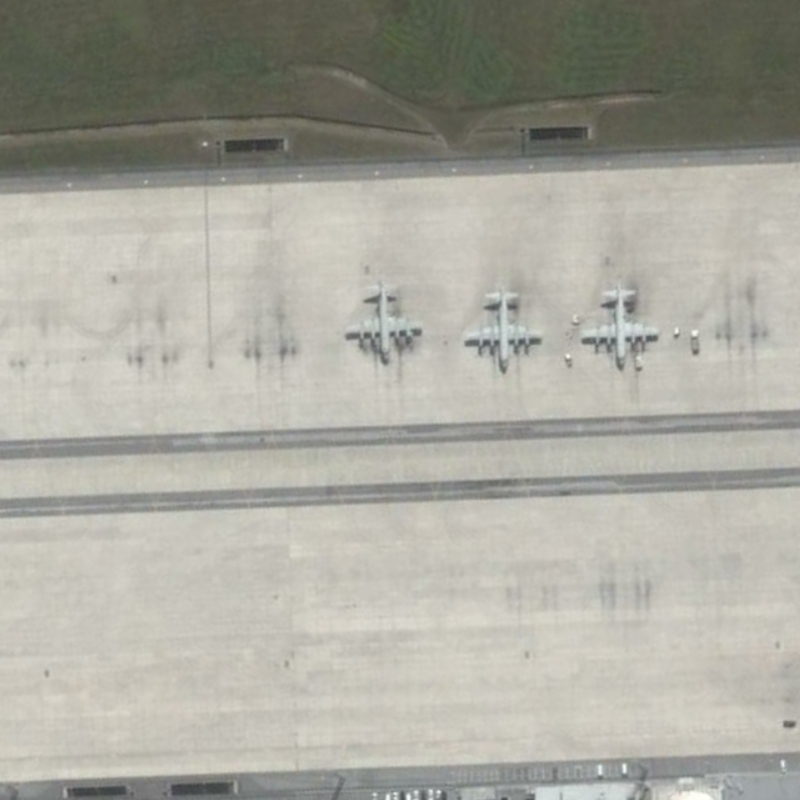A9: (456, 282, 549, 378), (337, 273, 426, 367), (576, 278, 662, 372)
